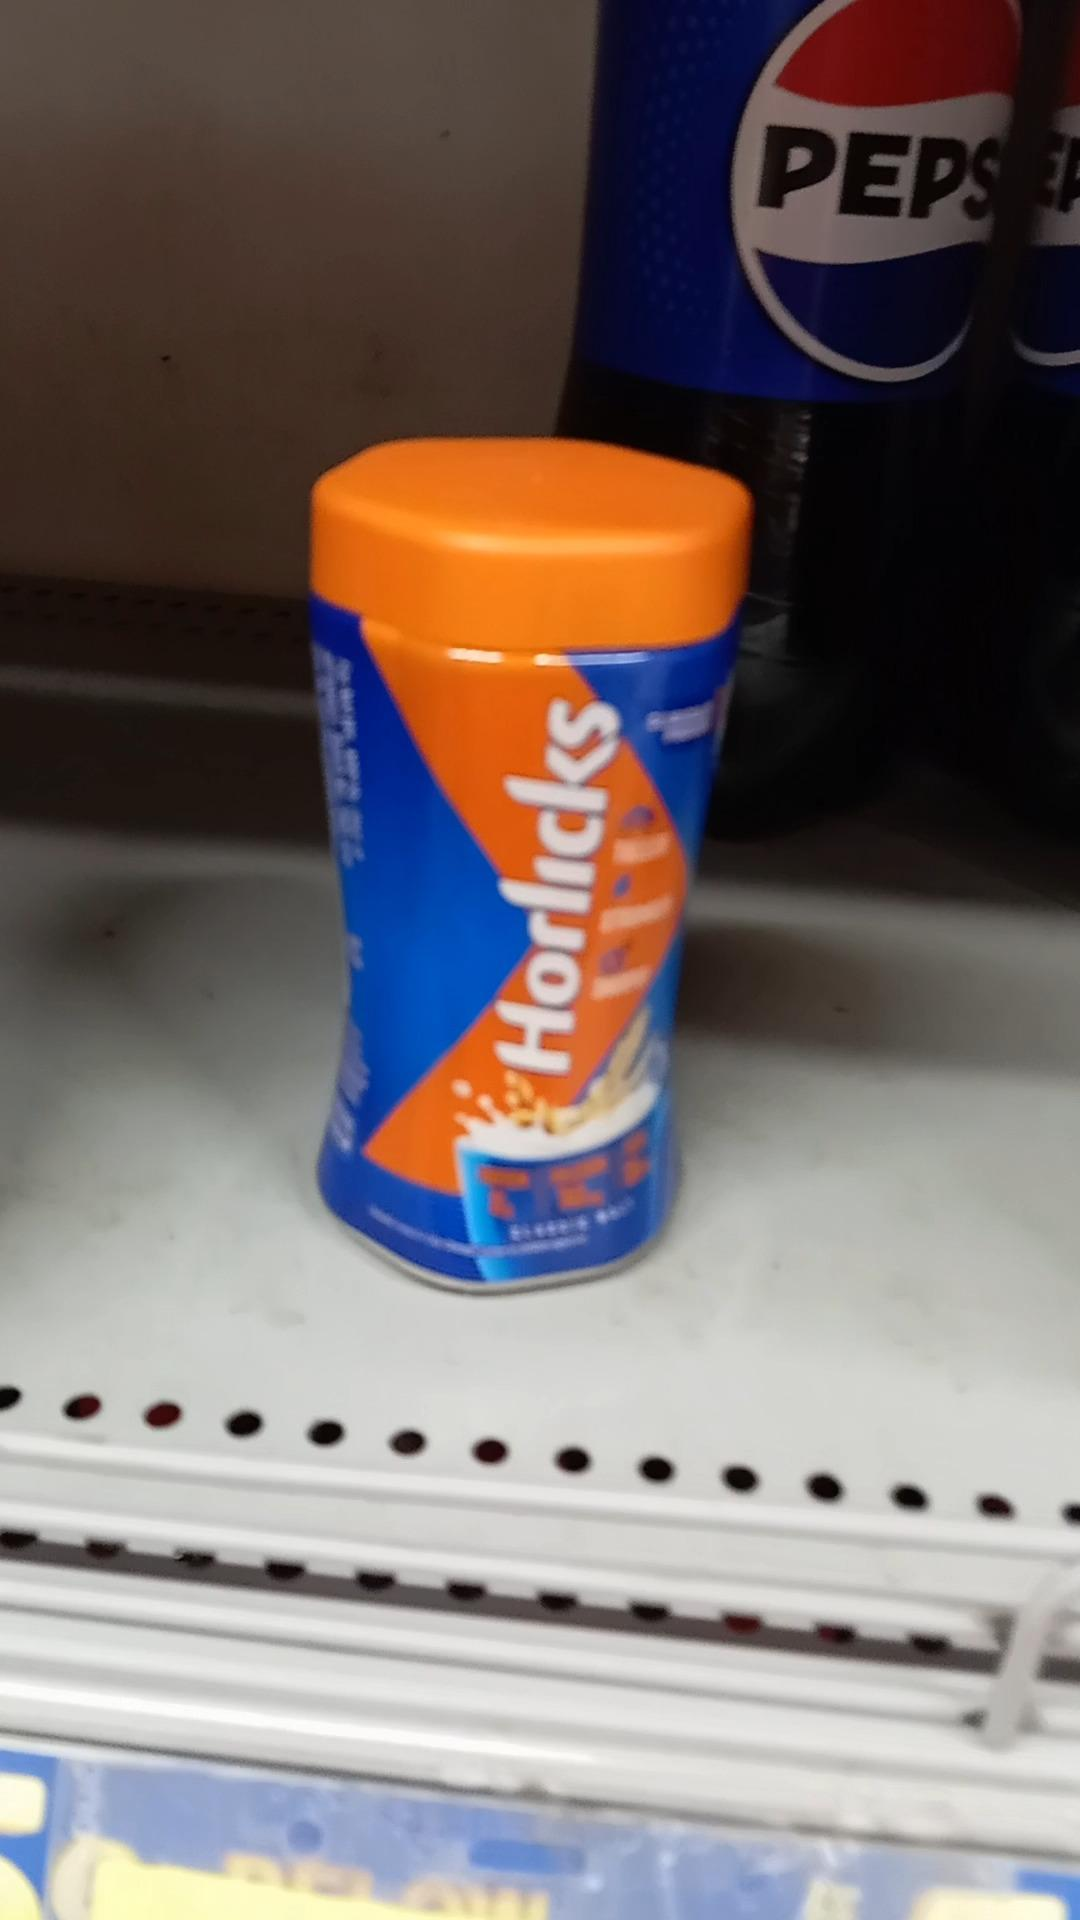HORLICK_CLASSIC_MALT_200_G_JAR: (305, 472, 719, 1292)
